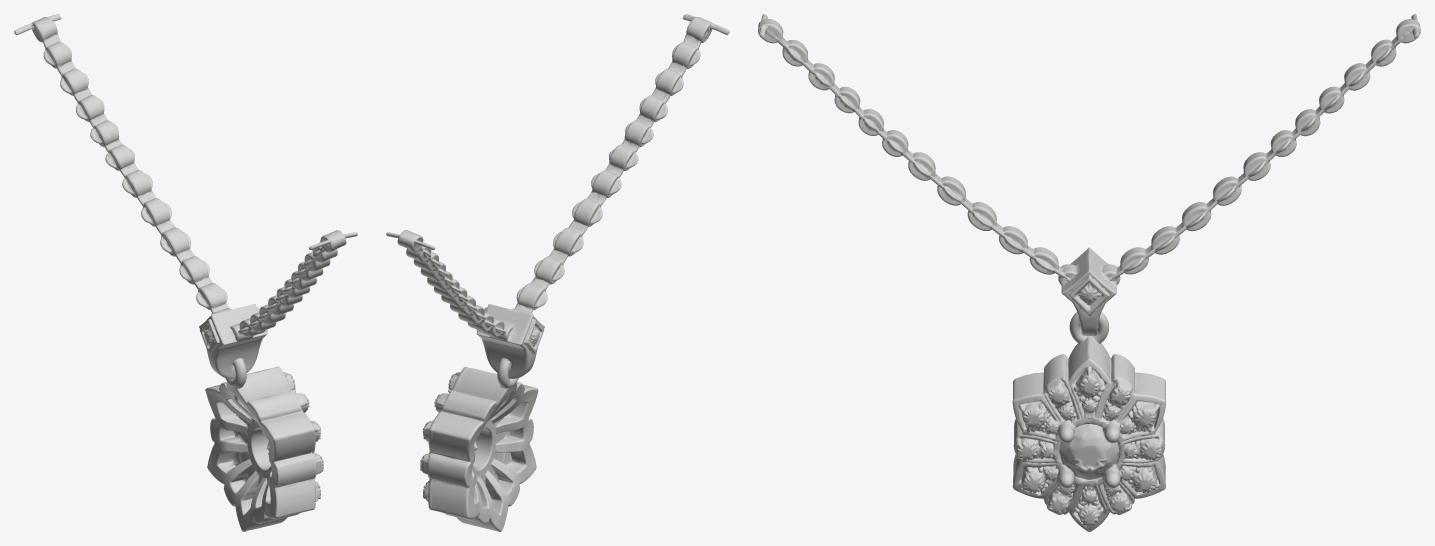
The picture shows the model from 3 angles, left to right: view 1: azimuth 30°, elevation 25°; view 2: azimuth 150°, elevation 25°; view 3: azimuth 270°, elevation 25°; orthographic projection. The views are drawn at different scales.
Visible parts, largest first — view 1: tripo_node_7f8096c7-79ac-4cf8-b8cc-01c9085fb179; view 2: tripo_node_7f8096c7-79ac-4cf8-b8cc-01c9085fb179; view 3: tripo_node_7f8096c7-79ac-4cf8-b8cc-01c9085fb179.
Part boxes in pixels (<box>): tripo_node_7f8096c7-79ac-4cf8-b8cc-01c9085fb179: <box>14,14,357,531</box>; tripo_node_7f8096c7-79ac-4cf8-b8cc-01c9085fb179: <box>386,14,729,531</box>; tripo_node_7f8096c7-79ac-4cf8-b8cc-01c9085fb179: <box>758,14,1420,531</box>.
Bounding box in the file's own units: 0.2747 × 0.7535 × 0.9797.
Materials: 1 (1 with a texture image).
